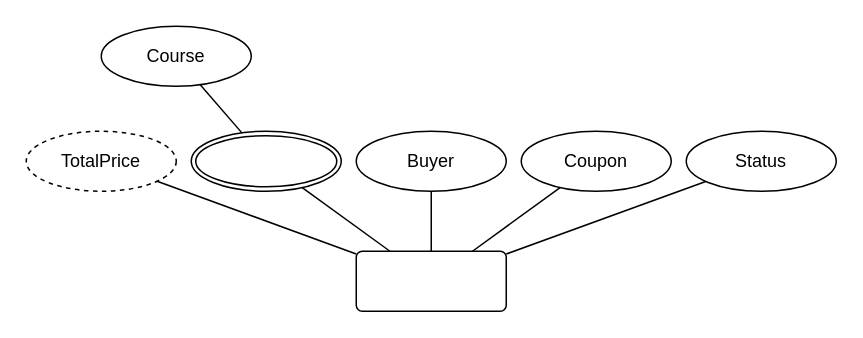
This 863x338 diagram has some shape labels left out. Each missing label, with the centre of its shape:
"ExistIn" belongs at point 265,160.
"ShoppingCart" belongs at point 430,280.
